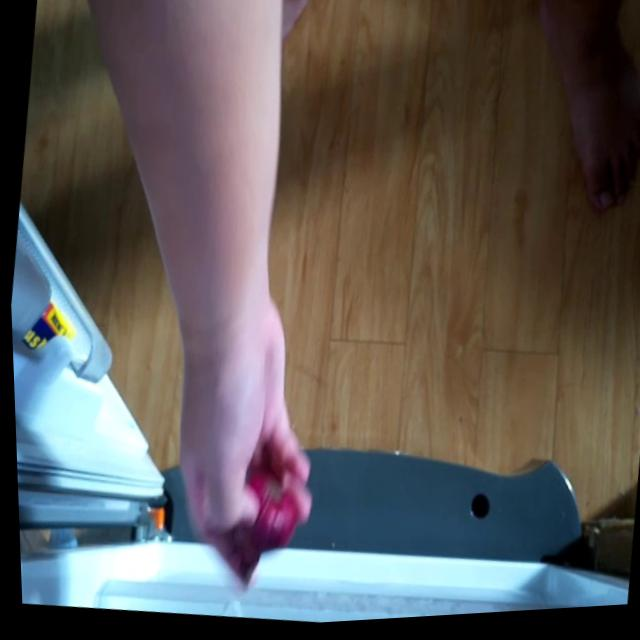onion: (221, 471, 298, 591)
